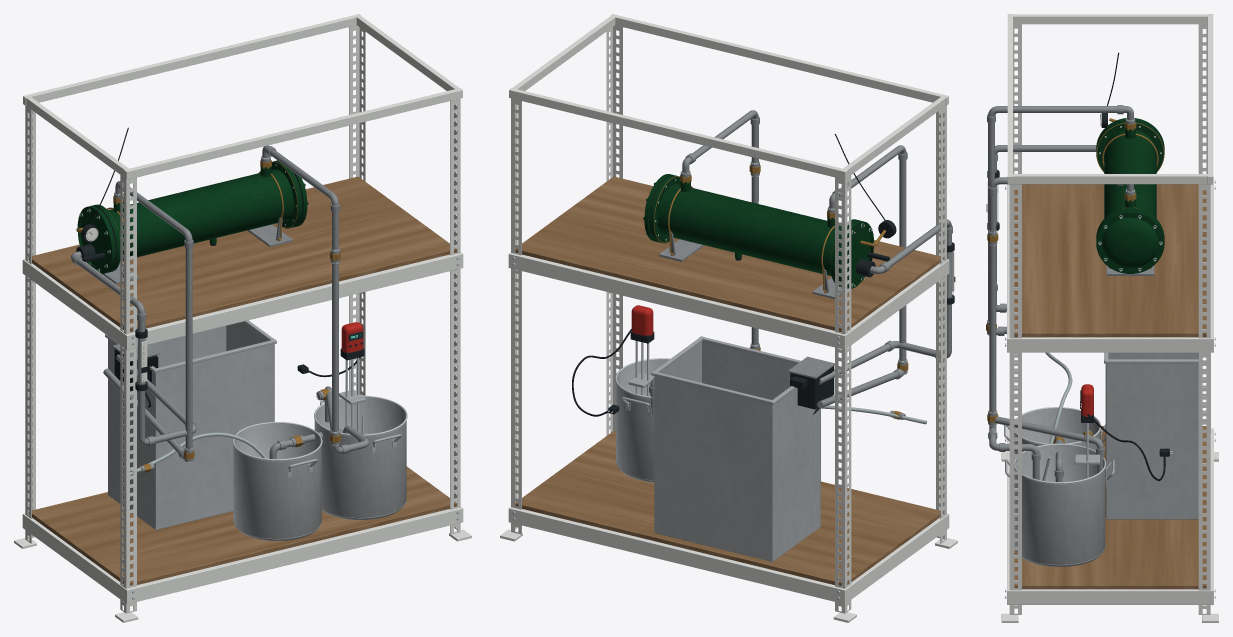
Rendered from heat_exchanger_rig.glb.
3 renders of one model, left to right at view 1: azimuth 30°, elevation 25°; view 2: azimuth 150°, elevation 25°; view 3: azimuth 270°, elevation 25°, orthographic.
Parts seen in each view (by area): view 1: Wood shelf board.001, Tall bath front and rear sheet, Wood shelf board, Open stainless stockpot 1, Open stainless stockpot 2, Glossy dark-green cylindrical shell, White slotted angle rack upright, White front and rear shelf rail, White front and rear shelf rail.002, White slotted angle rack upright.001, White slotted angle rack upright.003, Tall bath side sheet (+14 smaller); view 2: Wood shelf board.001, Tall bath front and rear sheet.001, Wood shelf board, Glossy dark-green cylindrical shell, Tall bath side sheet, White slotted angle rack upright.003, White front and rear shelf rail.001, White front and rear shelf rail.003, White slotted angle rack upright.002, White slotted angle rack upright, White slotted angle rack upright.001, Top frame cross rail.001 (+16 smaller); view 3: Wood shelf board.001, Tall bath side sheet.001, Wood shelf board, Open stainless stockpot 2, White slotted angle rack upright.002, White slotted angle rack upright.001, Glossy dark-green cylindrical shell, White side shelf rail.001, White side shelf rail.003, Right top nozzle long forward downpipe.001, Rounded green cast end cap.001, Top frame side cross rail (+20 smaller).
Part boxes in pixels (x1,y1,x2,y2): Wood shelf board.001: [28, 176, 456, 332]; Tall bath front and rear sheet: [155, 344, 273, 529]; Wood shelf board: [28, 466, 456, 585]; Open stainless stockpot 1: [233, 422, 321, 541]; Open stainless stockpot 2: [314, 395, 406, 519]; Glossy dark-green cylindrical shell: [108, 169, 293, 260]; White slotted angle rack upright: [120, 175, 136, 613]; White front and rear shelf rail: [123, 507, 463, 604]; White front and rear shelf rail.002: [123, 252, 463, 349]; White slotted angle rack upright.001: [450, 98, 460, 534]; White slotted angle rack upright.003: [25, 106, 35, 543]; Tall bath side sheet: [108, 339, 155, 529]; Wood shelf board.001: [515, 176, 943, 332]; Tall bath front and rear sheet.001: [654, 376, 772, 561]; Wood shelf board: [515, 431, 943, 585]; Glossy dark-green cylindrical shell: [657, 184, 841, 275]; Tall bath side sheet: [773, 388, 820, 561]; White slotted angle rack upright.003: [835, 175, 851, 613]; White front and rear shelf rail.001: [508, 507, 848, 604]; White front and rear shelf rail.003: [508, 252, 848, 349]; White slotted angle rack upright.002: [511, 98, 521, 534]; White slotted angle rack upright: [936, 106, 946, 543]; White slotted angle rack upright.001: [606, 25, 622, 435]; Top frame cross rail.001: [509, 88, 847, 179]; Wood shelf board.001: [1014, 184, 1206, 337]; Tall bath side sheet.001: [1106, 363, 1198, 519]; Wood shelf board: [1014, 426, 1206, 589]; Open stainless stockpot 2: [1014, 444, 1105, 566]; White slotted angle rack upright.002: [1198, 184, 1210, 614]; White slotted angle rack upright.001: [1009, 184, 1021, 614]; Glossy dark-green cylindrical shell: [1104, 130, 1156, 218]; White side shelf rail.001: [1011, 589, 1209, 604]; White side shelf rail.003: [1013, 337, 1207, 352]; Right top nozzle long forward downpipe.001: [989, 177, 1133, 479]; Rounded green cast end cap.001: [1102, 217, 1158, 268]; Top frame side cross rail: [1012, 14, 1207, 24].
Size of the model in its own units: 1.3 by 1.59 by 0.7563.
9 materials, 9 textured.
